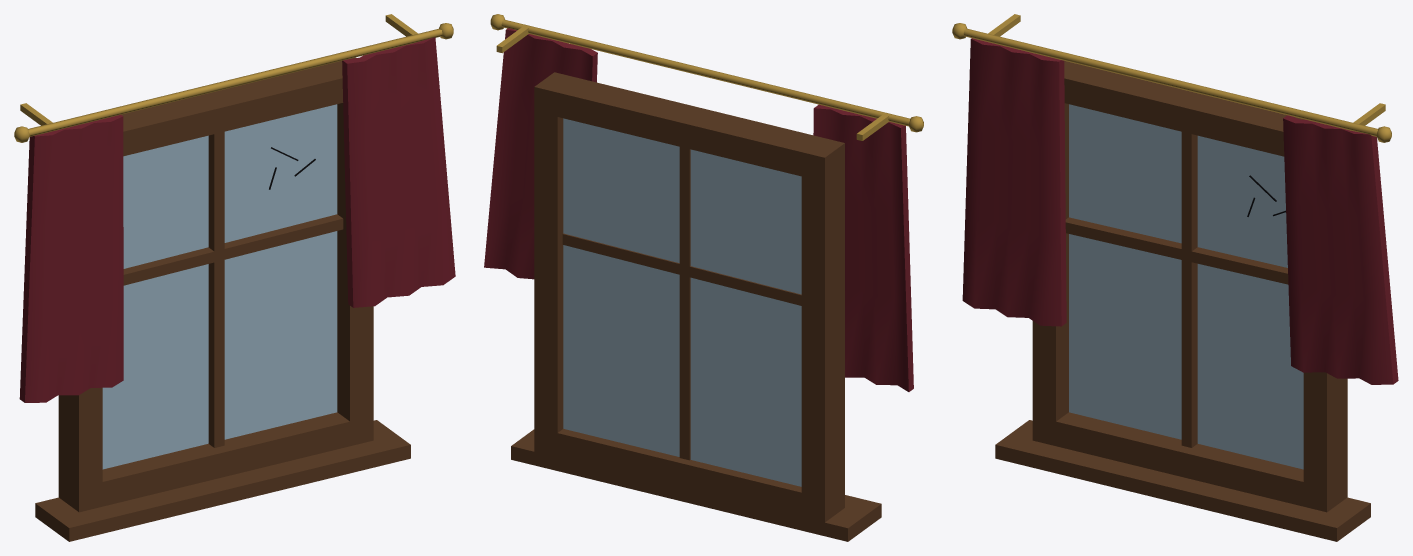
Rendered from Raam.glb.
3 renders of one model, left to right at view 1: azimuth 30°, elevation 25°; view 2: azimuth 150°, elevation 25°; view 3: azimuth 330°, elevation 25°, orthographic.
Parts seen in each view (by area): view 1: Glass, FrameMerged, CurtainL, CurtainR, CurtainRod; view 2: Glass, FrameMerged, CurtainL, CurtainR, CurtainRod; view 3: Glass, FrameMerged, CurtainL, CurtainR, CurtainRod.
Boxes of the visible parts, bbox=[...] form: Glass: bbox=[102, 104, 337, 469]; FrameMerged: bbox=[35, 57, 410, 541]; CurtainL: bbox=[19, 114, 123, 402]; CurtainR: bbox=[342, 37, 455, 307]; CurtainRod: bbox=[14, 14, 453, 142]; Glass: bbox=[563, 118, 801, 486]; FrameMerged: bbox=[511, 72, 881, 541]; CurtainL: bbox=[813, 104, 913, 391]; CurtainR: bbox=[484, 28, 597, 279]; CurtainRod: bbox=[490, 14, 923, 140]; Glass: bbox=[1069, 104, 1303, 469]; FrameMerged: bbox=[995, 61, 1370, 541]; CurtainL: bbox=[962, 38, 1066, 326]; CurtainR: bbox=[1283, 115, 1398, 384]; CurtainRod: bbox=[952, 14, 1391, 142].
Bounding box in the file's own units: 1.5 × 1.37 × 0.2.
